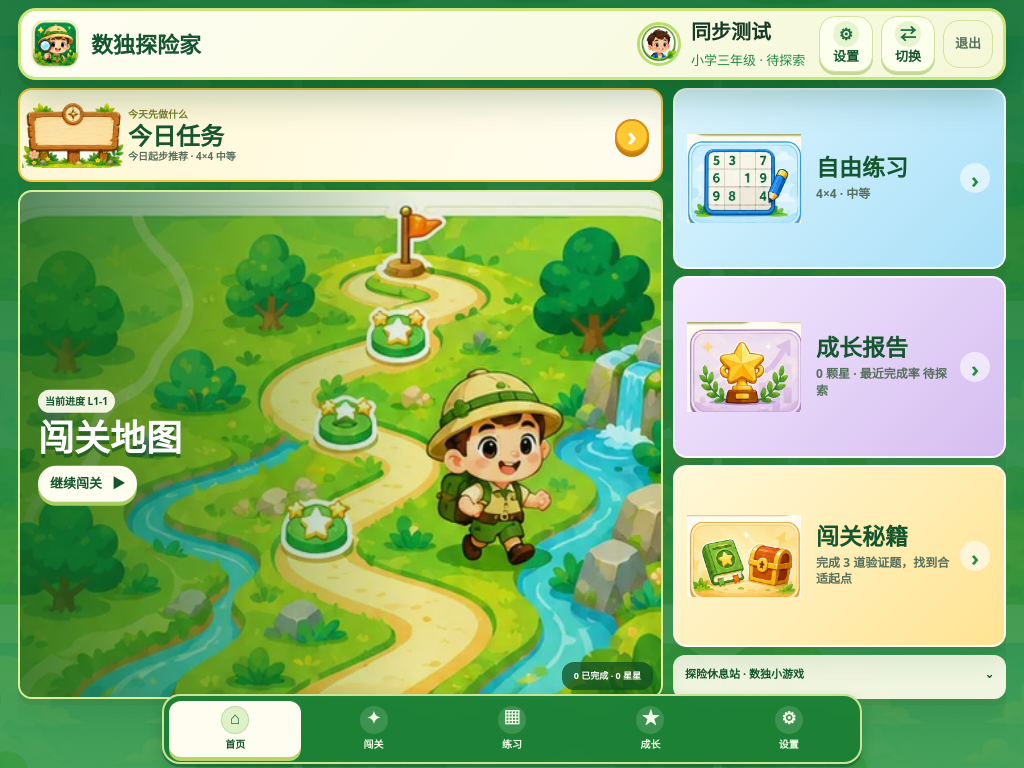
App cloud sync lifecycle › automatically uploads a pending local result when the browser comes back online
Click the 2nd button "⚙ 设置": (789, 729) [723, 701, 855, 757]
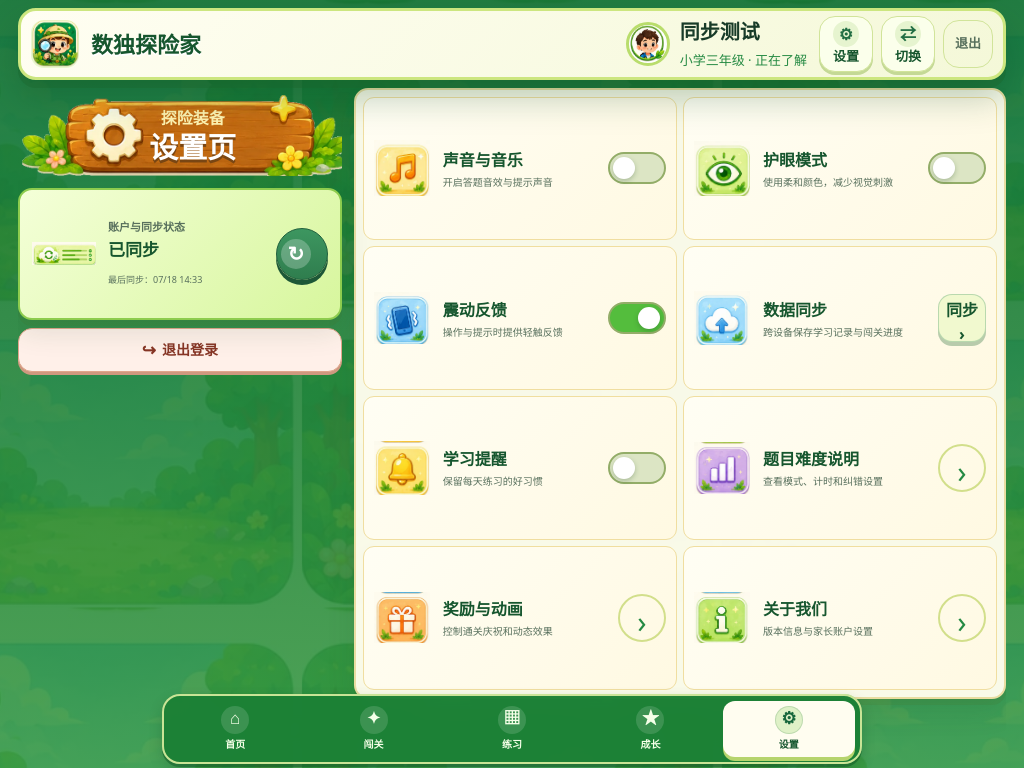
Check: the text "同步暂不可用" is shown, box [108, 238, 159, 261]
Check: the text "学习记录仍保存在当前设备，可稍后重试。" is shown, box [108, 272, 202, 286]
Check: the button named "重新同步" is shown, box [276, 228, 328, 280]
